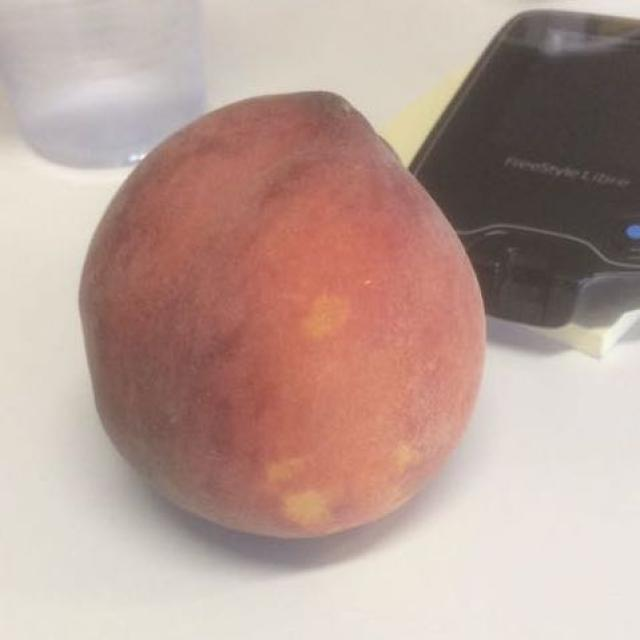peach: (89, 96, 472, 530)
